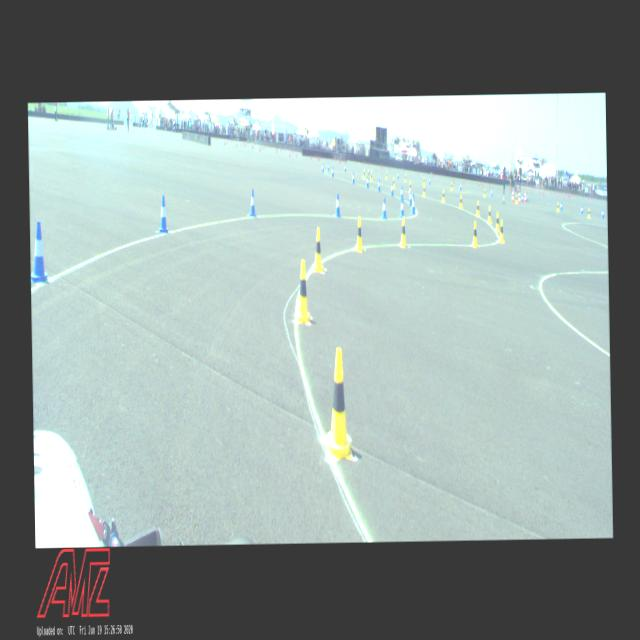blue_cone: (30, 220, 48, 282), (158, 194, 168, 233), (248, 188, 256, 217), (334, 192, 340, 217), (410, 194, 416, 214), (381, 196, 386, 219), (399, 197, 403, 217), (411, 192, 415, 210), (389, 182, 394, 196), (399, 186, 404, 200), (408, 190, 412, 206), (377, 178, 380, 191), (366, 175, 368, 188), (352, 171, 354, 183), (332, 166, 334, 177), (580, 205, 582, 215), (602, 208, 604, 218), (322, 162, 324, 172), (560, 201, 562, 210), (428, 176, 430, 185), (459, 181, 461, 190), (328, 162, 330, 170), (344, 164, 346, 172), (490, 188, 492, 196), (396, 171, 398, 179), (521, 194, 523, 202), (367, 167, 369, 174)
large_orange_cone: (512, 187, 514, 203), (524, 188, 526, 204), (518, 188, 520, 204)
yellow_cone: (323, 346, 353, 458), (294, 259, 310, 324), (312, 226, 324, 272), (353, 216, 362, 250), (398, 216, 406, 247), (471, 220, 478, 248), (498, 218, 504, 242), (494, 212, 500, 232), (487, 205, 491, 223), (476, 200, 480, 217), (458, 194, 462, 208), (441, 189, 445, 202), (422, 184, 425, 196), (408, 180, 411, 192), (587, 208, 590, 218), (392, 176, 394, 188), (362, 168, 364, 179), (450, 181, 452, 191), (556, 202, 558, 212), (515, 194, 517, 203), (370, 172, 372, 181), (385, 171, 387, 180), (422, 176, 424, 185), (370, 168, 372, 177), (404, 174, 406, 182), (484, 188, 486, 196)
